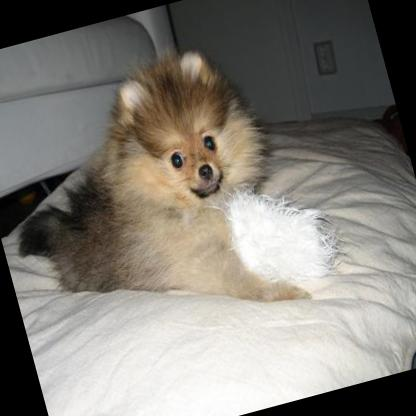Pomeranian: (0, 32, 315, 371)
